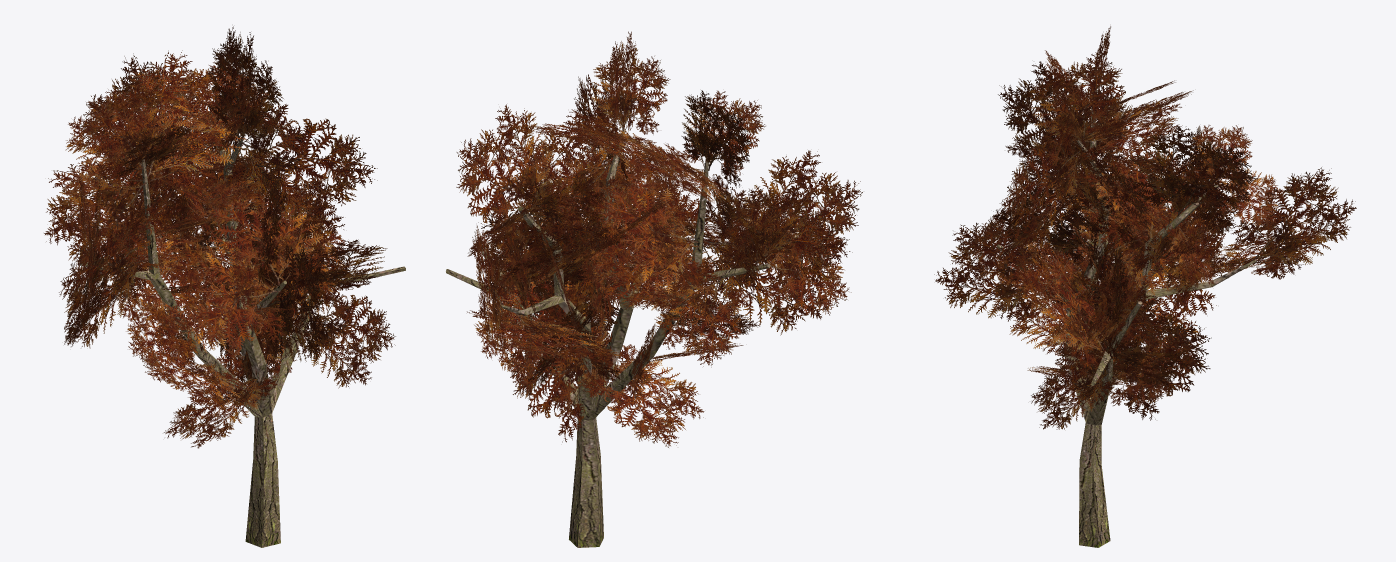
Rendered from tree02.fbx.
The picture shows the model from 3 angles, left to right: view 1: azimuth 30°, elevation 25°; view 2: azimuth 150°, elevation 25°; view 3: azimuth 270°, elevation 25°; orthographic projection. The views are drawn at different scales.
Visible parts, largest first — view 1: treee02; view 2: treee02; view 3: treee02.
Part boxes in pixels (x1,y1,x2,y2): treee02: (44, 26, 405, 547); treee02: (446, 31, 862, 547); treee02: (934, 26, 1356, 547).
Bounding box in the file's own units: 6583 × 8402 × 7353.
